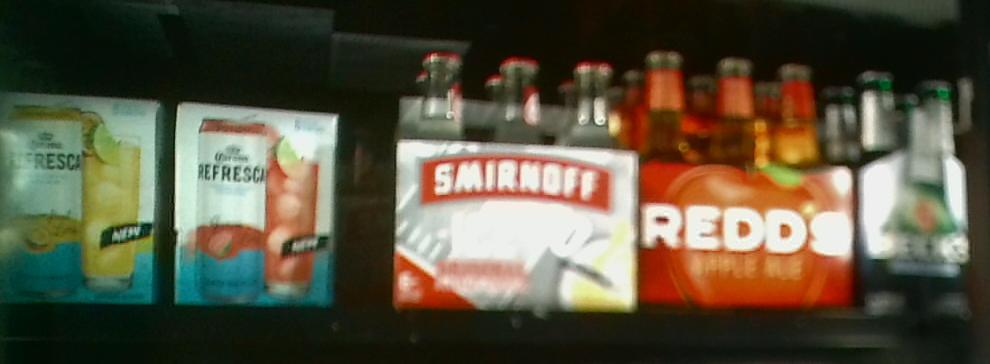bottle: (389, 47, 635, 311), (640, 45, 858, 307), (174, 100, 337, 309), (1, 94, 160, 306)
